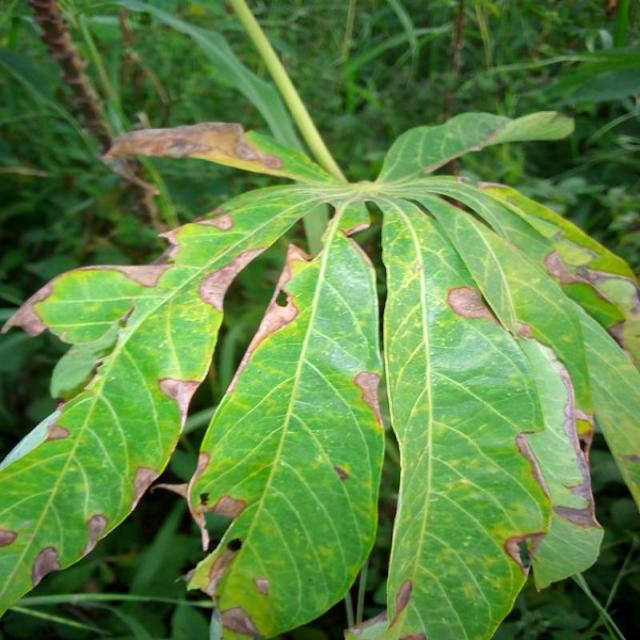cassava leaf: (1, 102, 638, 638), (378, 182, 604, 638), (187, 223, 386, 638)
